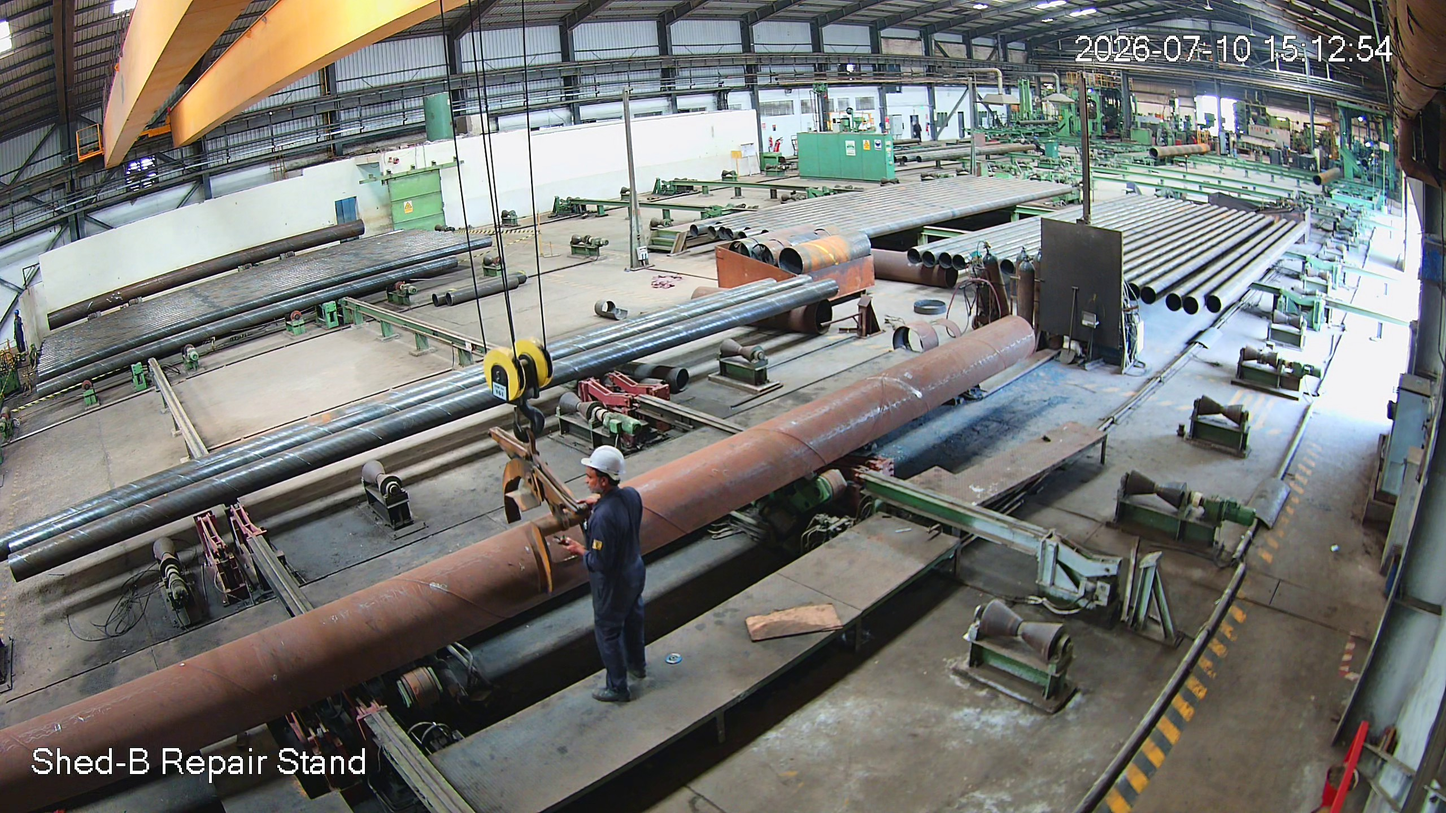Helmet: (574, 440, 641, 520)
Person: (571, 452, 664, 700)
